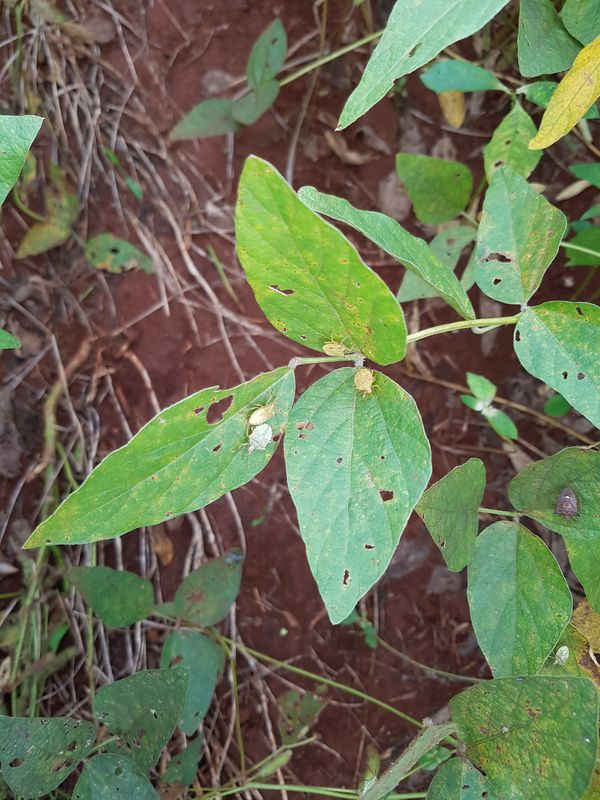Euschistus_heros_adulto: (547, 483, 589, 529)
Euschistus_heros_ninfa: (347, 361, 392, 404), (315, 331, 357, 365), (240, 391, 280, 425), (241, 425, 279, 459), (543, 639, 576, 675)
